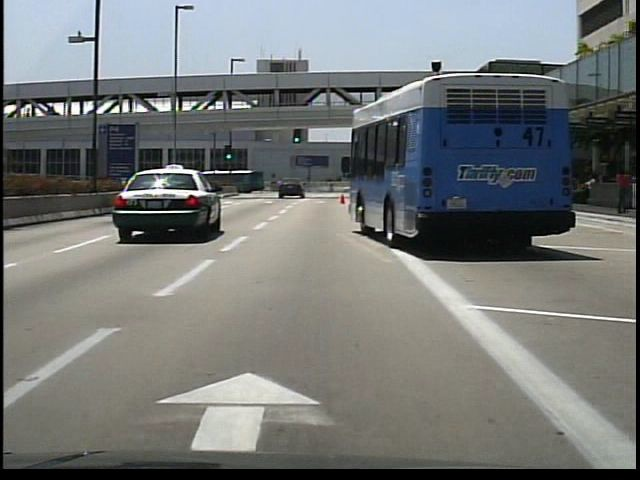person: (612, 164, 631, 216)
